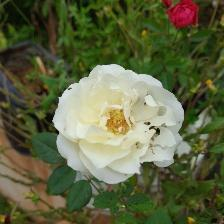rose: (52, 62, 188, 185), (168, 1, 203, 32)
